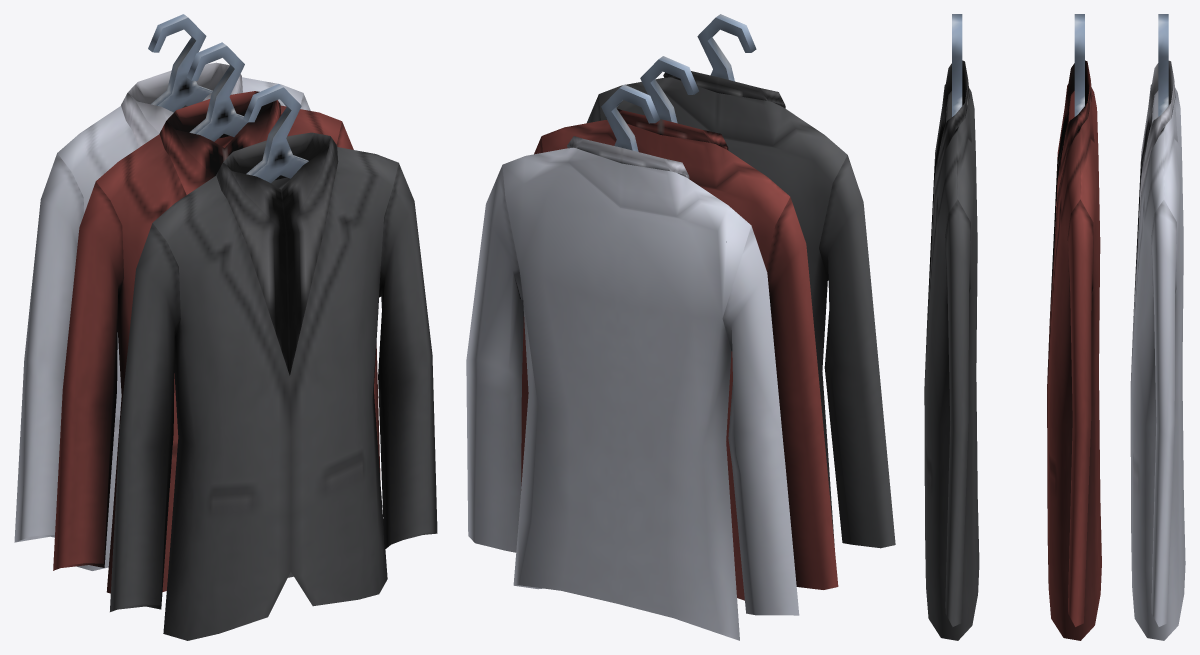
File: Hanger_suits.FBX
3 renders of one model, left to right at view 1: azimuth 30°, elevation 25°; view 2: azimuth 150°, elevation 25°; view 3: azimuth 270°, elevation 25°, orthographic. The views are drawn at different scales.
Visible parts, largest first — view 1: mancini_model02; view 2: mancini_model02; view 3: mancini_model02.
Boxes of the visible parts, <box> form: mancini_model02: <box>14,14,437,640</box>; mancini_model02: <box>466,14,895,640</box>; mancini_model02: <box>924,14,1185,640</box>.
Size of the model in its own units: 464 by 296 by 711.
